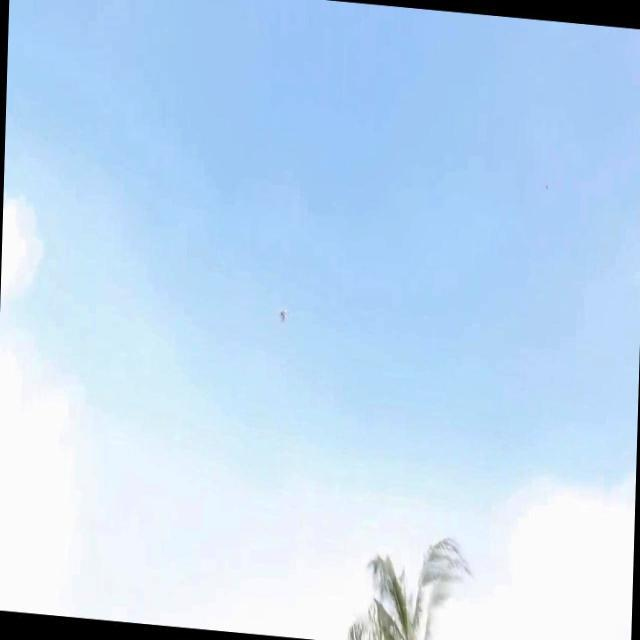drone: (278, 306, 288, 324)
